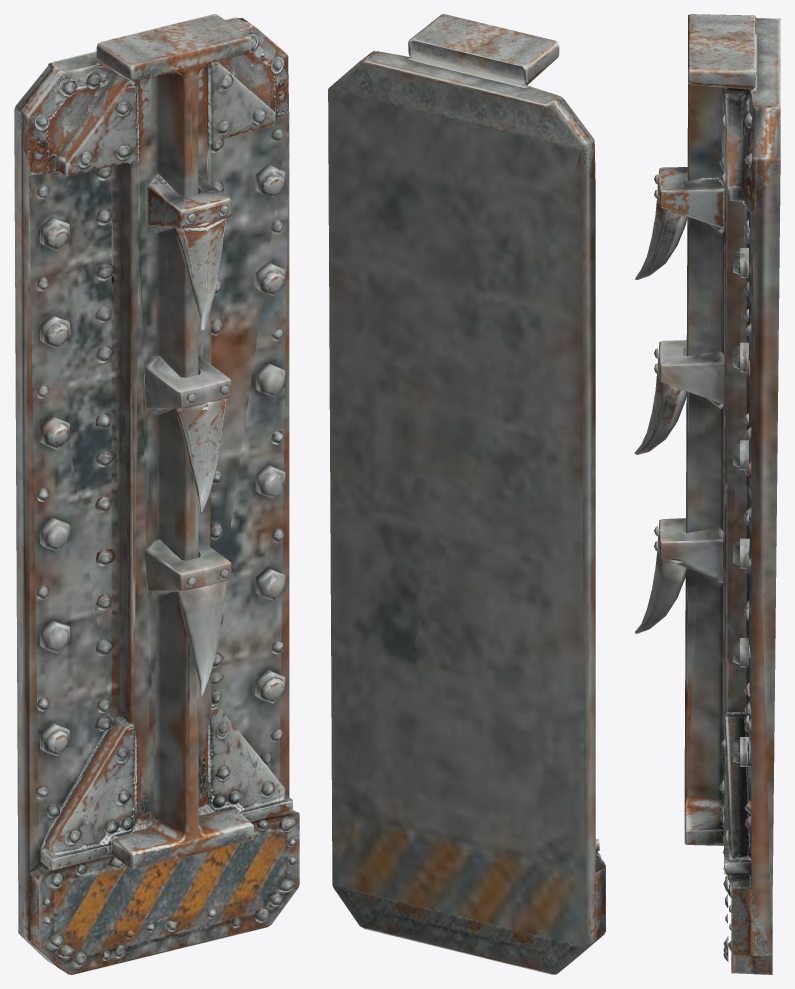
File: train-armor-post.glb
3 views of the same model, side by side, from view 1: azimuth 30°, elevation 25°; view 2: azimuth 150°, elevation 25°; view 3: azimuth 270°, elevation 25° (orthographic). The views are drawn at different scales.
Visible parts, largest first — view 1: train-armor-post; view 2: train-armor-post; view 3: train-armor-post.
Part boxes in pixels (bbox=[...]): train-armor-post: bbox=[14, 14, 299, 974]; train-armor-post: bbox=[328, 14, 605, 974]; train-armor-post: bbox=[634, 14, 780, 974].
Size of the model in its own units: 0.45 by 1.52 by 0.2269.
1 material, 1 textured.
